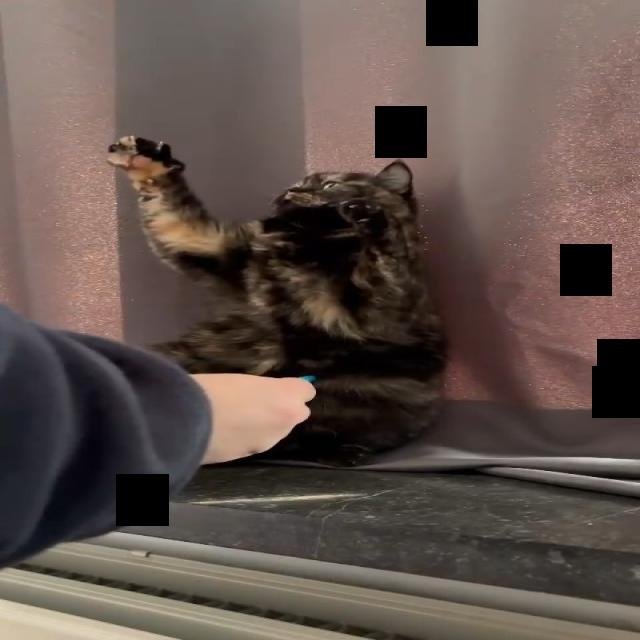authorized: (105, 135, 451, 468)
